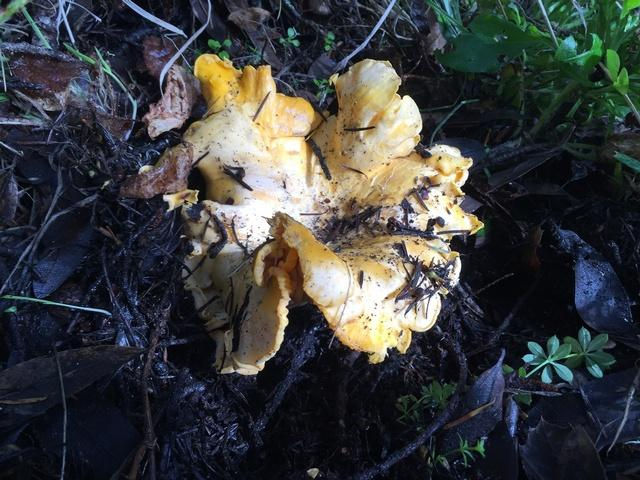edible_mushroom: (121, 51, 483, 376)
